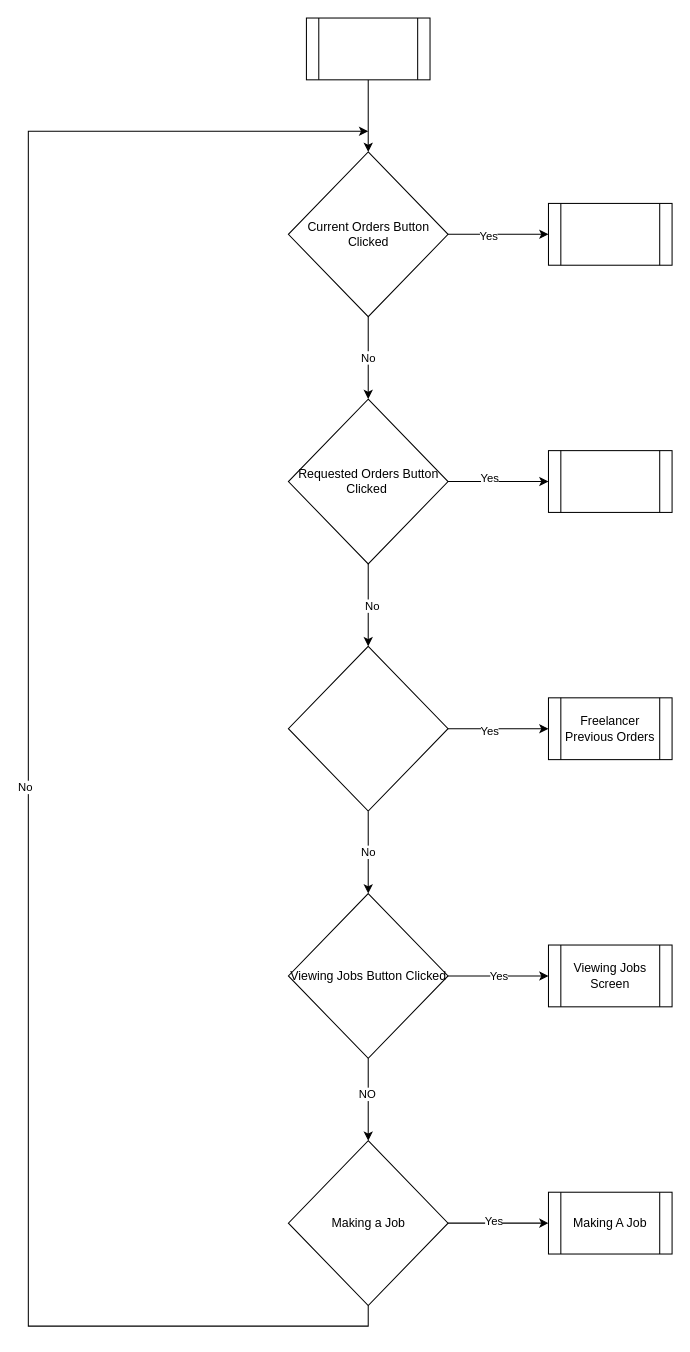
Some shapes in this 690 by 1352 pixel diagram are drawn without their labels. Each missing label, with the box of its shape:
Freelancer Current Orders: (547, 202, 672, 265)
Freelancer Requested Orders: (547, 450, 672, 512)
Main Orders Page: (305, 17, 430, 80)
Previous Orders Button Clicked: (287, 645, 448, 811)
